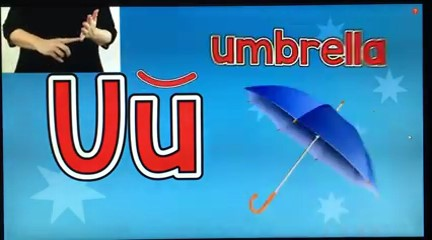U: (29, 5, 107, 66)
